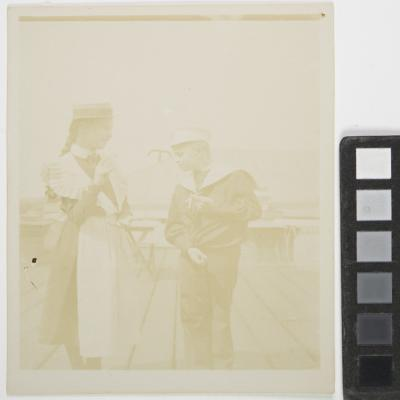photos_negatives: (1, 0, 336, 400)
